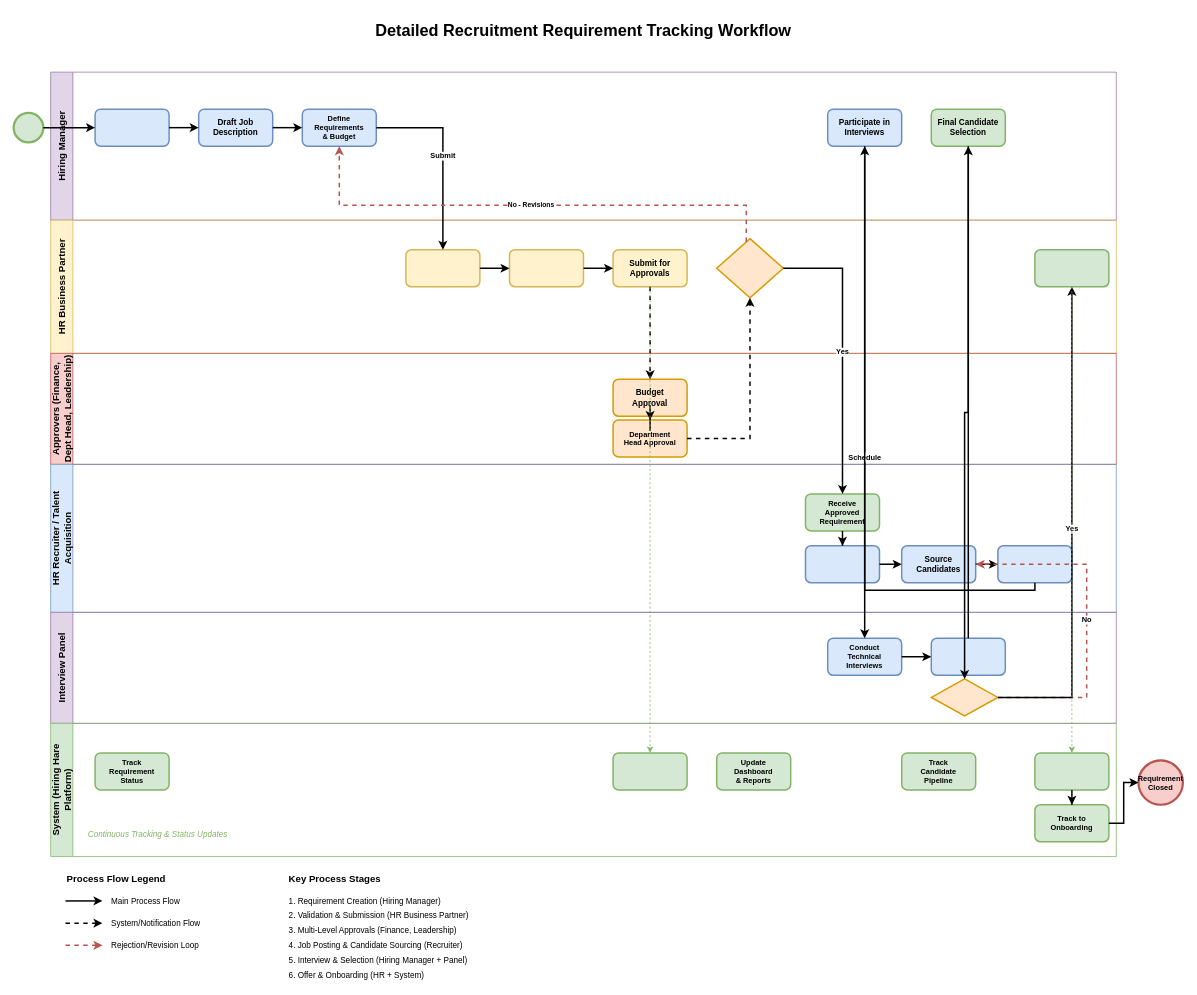
This 1197x995 diagram has some shape labels left out. Each missing label, with the centre of its shape:
All Approvals Received?: the point at 750,268
Candidate Suitable?: the point at 964,697
Coordinate Offer & Contract: the point at 1071,268
Generate Offer Letter: the point at 1071,771
Identify Hiring Need: the point at 131,127
Post Job on Portals: the point at 842,564
Provide Feedback: the point at 968,656
Review Requirement: the point at 442,268
Screen Resumes: the point at 1034,564
Send Approval Notifications: the point at 649,771
Validate Job Details & Alignment: the point at 546,268
